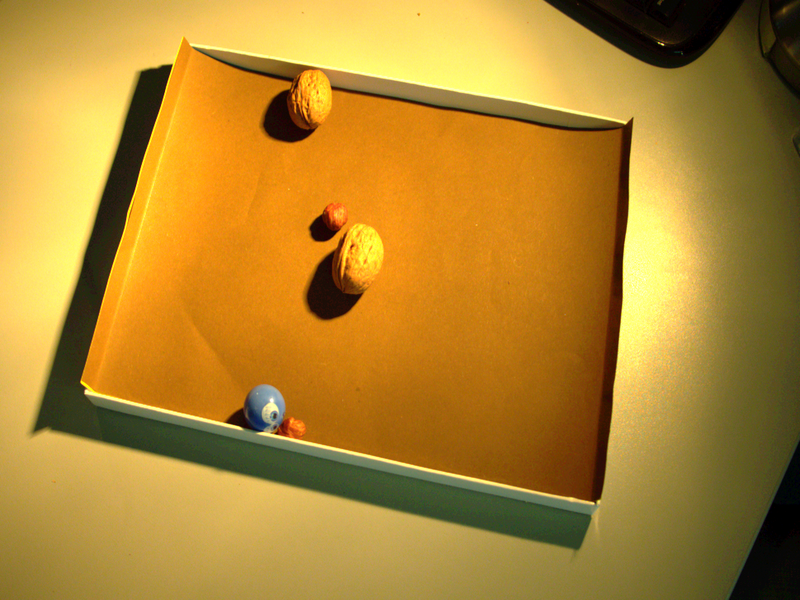walnut: (326, 220, 389, 303), (284, 64, 337, 135)
